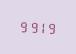nine: (18, 18, 26, 33), (27, 19, 35, 33), (45, 20, 53, 34)
one: (36, 19, 44, 34)
